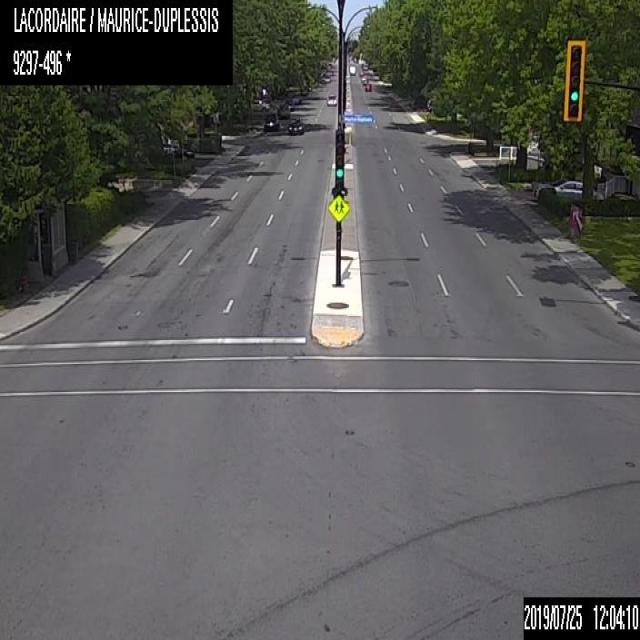vehicle: (533, 177, 602, 206), (160, 142, 193, 158), (286, 118, 304, 134), (263, 112, 278, 130), (251, 98, 269, 111), (277, 103, 290, 117), (283, 98, 294, 110), (326, 94, 336, 105), (290, 92, 300, 102), (348, 62, 356, 74), (364, 82, 372, 90), (362, 77, 368, 84), (362, 63, 367, 69)
